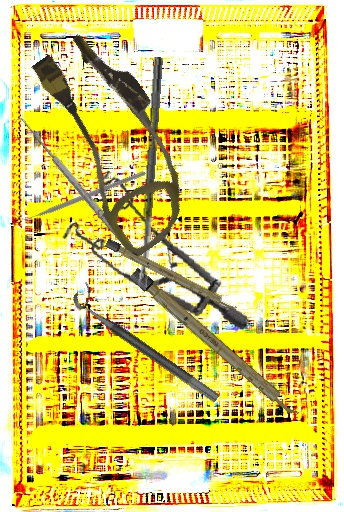Cannula: (8, 21, 221, 261)
Chopper: (14, 125, 146, 263)
Fixation Ring: (69, 280, 229, 405)
Hook Surgical: (11, 113, 134, 256)
Scalpel Handle: (129, 267, 302, 421), (104, 238, 239, 313)
Speculum: (50, 164, 272, 331)
Surgical Spoon: (136, 56, 164, 288)
